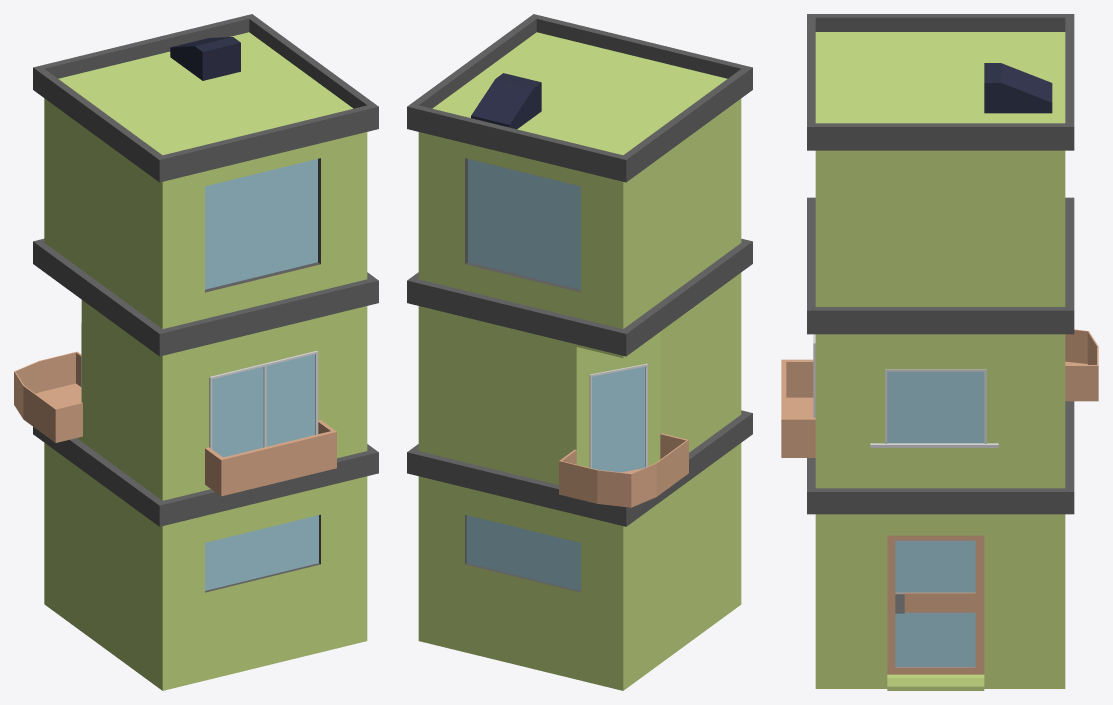
The model's file is Apartment2.fbx.
The picture shows the model from 3 angles, left to right: view 1: azimuth 30°, elevation 25°; view 2: azimuth 150°, elevation 25°; view 3: azimuth 270°, elevation 25°; orthographic projection. The views are drawn at different scales.
Visible parts, largest first — view 1: Apartment; view 2: Apartment; view 3: Apartment.
Part boxes in pixels (x1,y1,x2,y2): Apartment: [14, 14, 378, 690]; Apartment: [407, 14, 752, 690]; Apartment: [781, 14, 1098, 690].
Size of the model in its own units: 2336 by 5145 by 2540.
